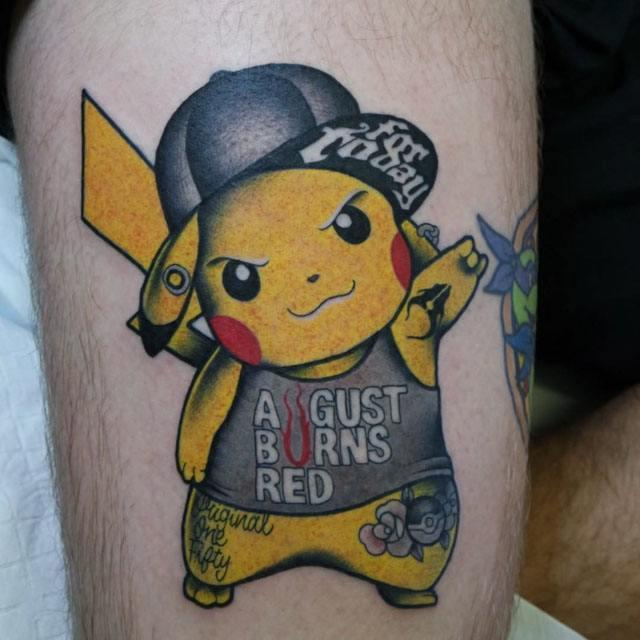pikachu: (84, 78, 489, 612)
